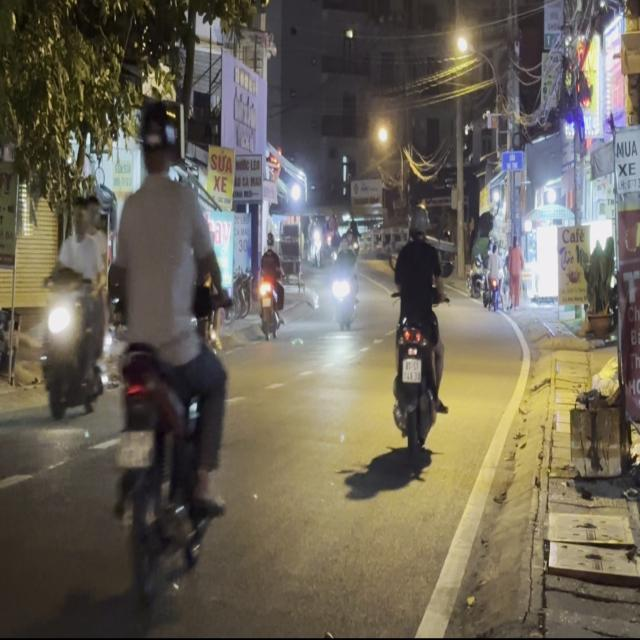helmet: (136, 97, 182, 180), (407, 203, 429, 238)
licenseplate: (102, 96, 231, 623), (36, 188, 108, 423), (386, 201, 448, 465)
motorcyclist: (69, 191, 89, 242), (86, 192, 102, 229)
nohelmet: (115, 430, 153, 466), (402, 358, 421, 382)
